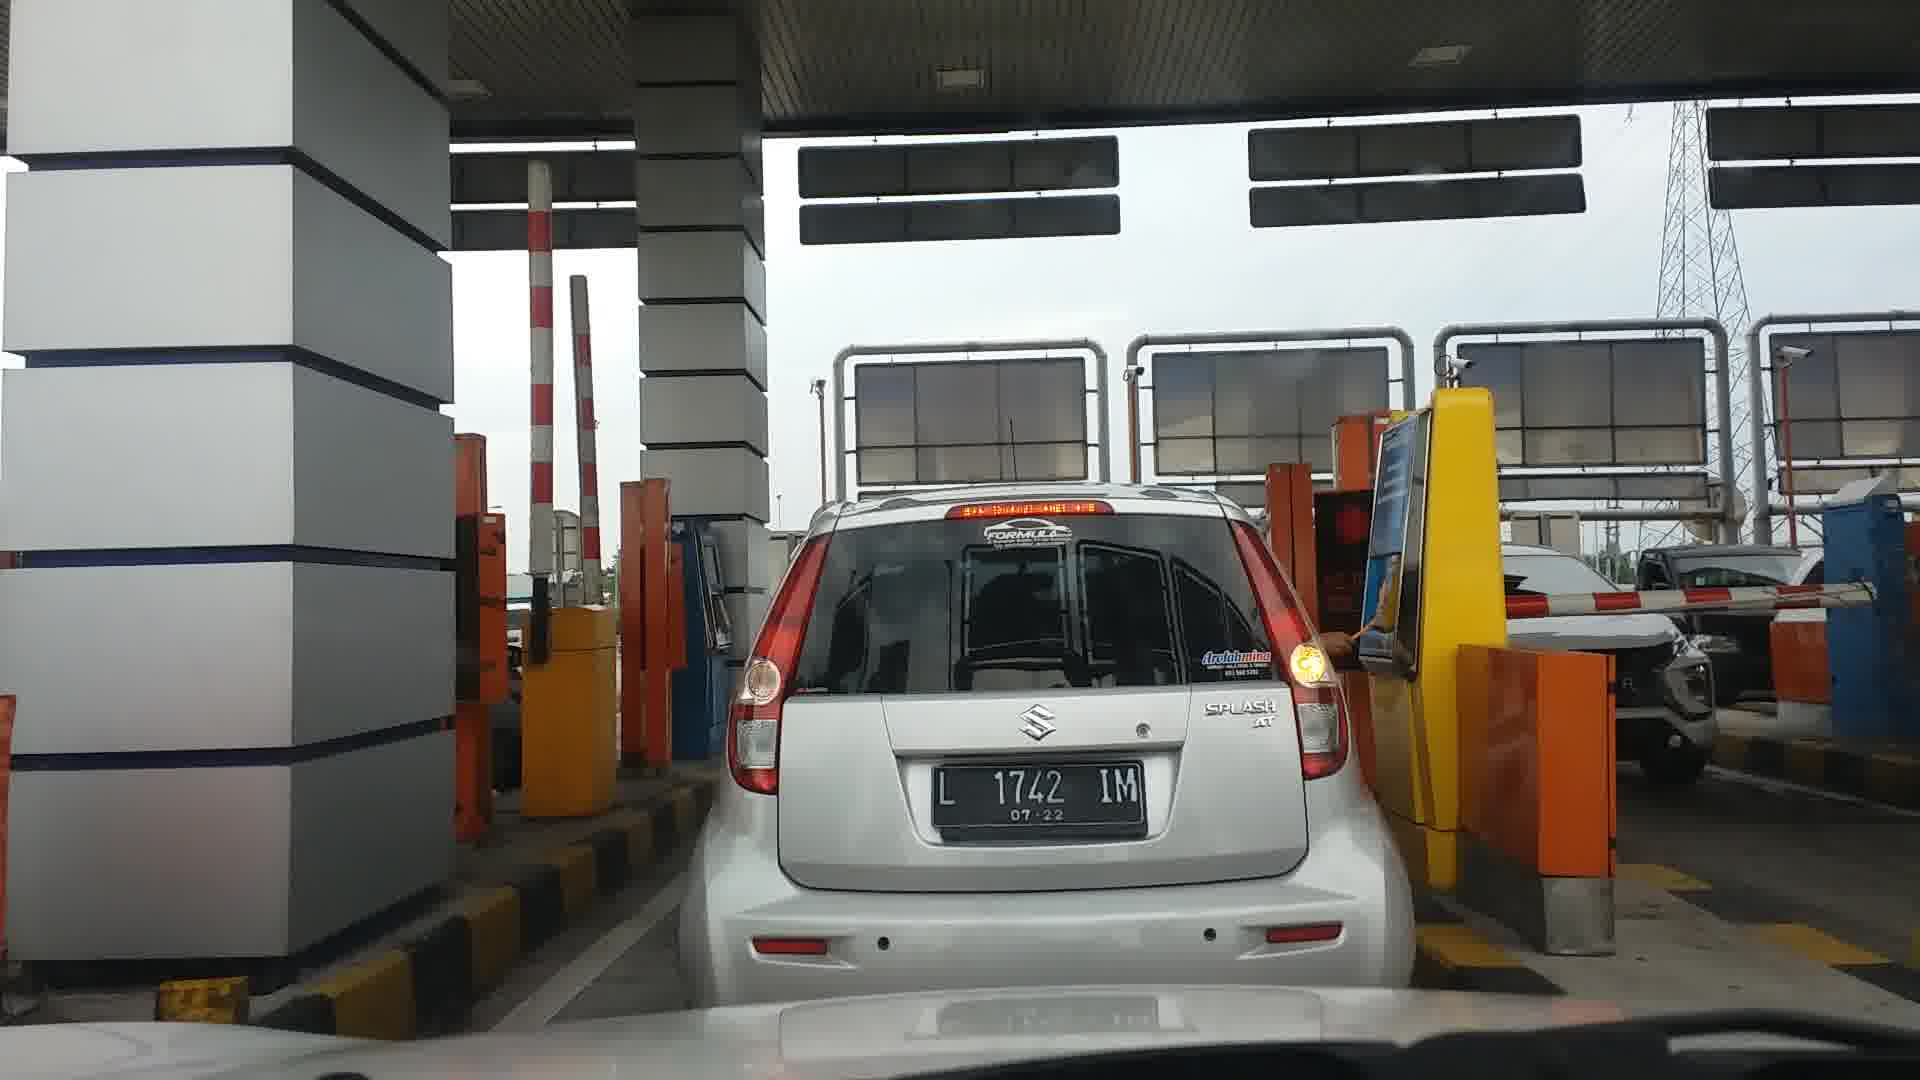plate_positive: (931, 762, 1149, 843)
